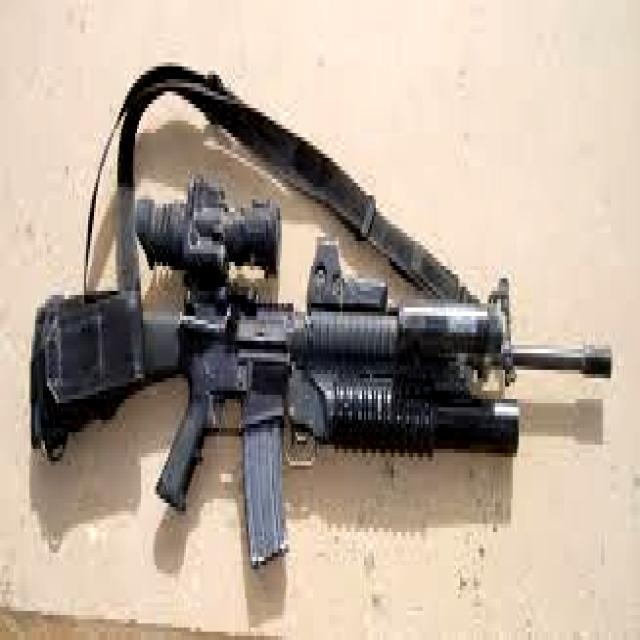m16: (24, 195, 623, 572)
